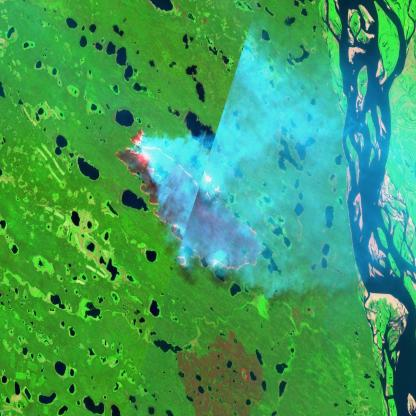fire: (114, 124, 264, 274)
